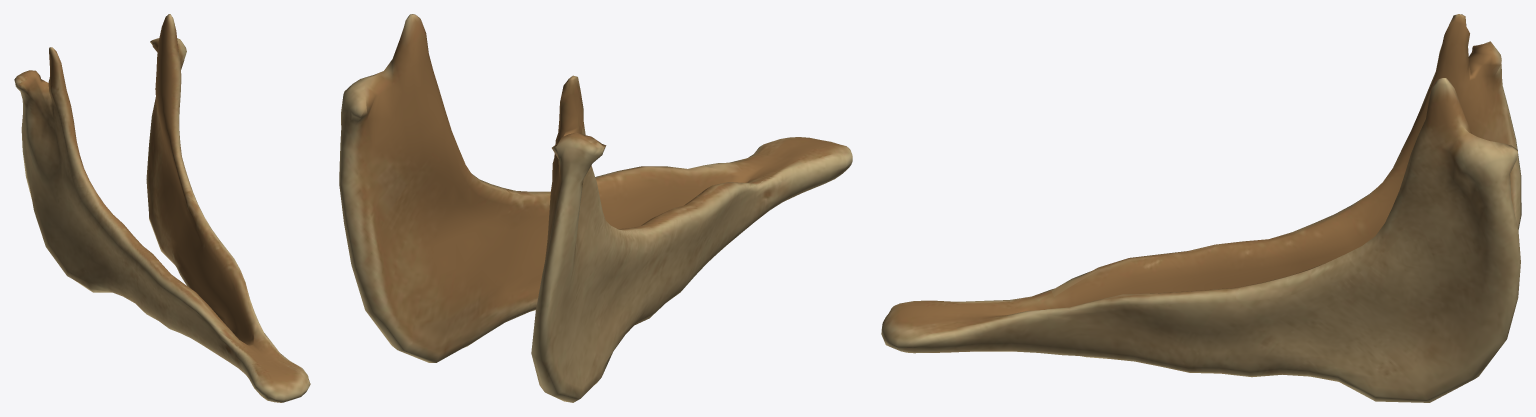
The model's file is Mandible.glb.
3 renders of one model, left to right at view 1: azimuth 30°, elevation 25°; view 2: azimuth 150°, elevation 25°; view 3: azimuth 270°, elevation 25°, orthographic. The views are drawn at different scales.
Visible parts, largest first — view 1: skull1.001; view 2: skull1.001; view 3: skull1.001.
Part boxes in pixels (left/top/right/bottom): skull1.001: left=14, top=14, right=310, bottom=402; skull1.001: left=339, top=14, right=852, bottom=402; skull1.001: left=881, top=14, right=1521, bottom=402.
Size of the model in its own units: 0.1948 by 0.2609 by 0.4525.
Materials: 1 (1 with a texture image).
